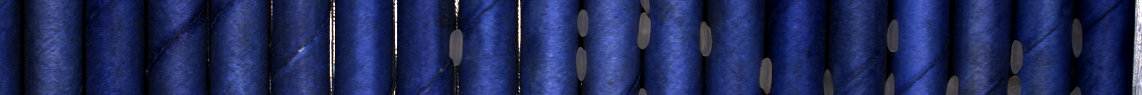broken_grain: (821, 66, 838, 95), (881, 71, 900, 95), (946, 72, 960, 95), (639, 1, 653, 12)
complete_grain: (697, 20, 716, 60), (446, 29, 464, 70), (1068, 17, 1085, 59), (757, 54, 774, 95), (885, 17, 902, 56), (1009, 38, 1026, 75), (574, 8, 591, 39), (574, 45, 589, 80)
milky_grain: (637, 12, 653, 54)
yellow_grain: (1005, 74, 1026, 95)
